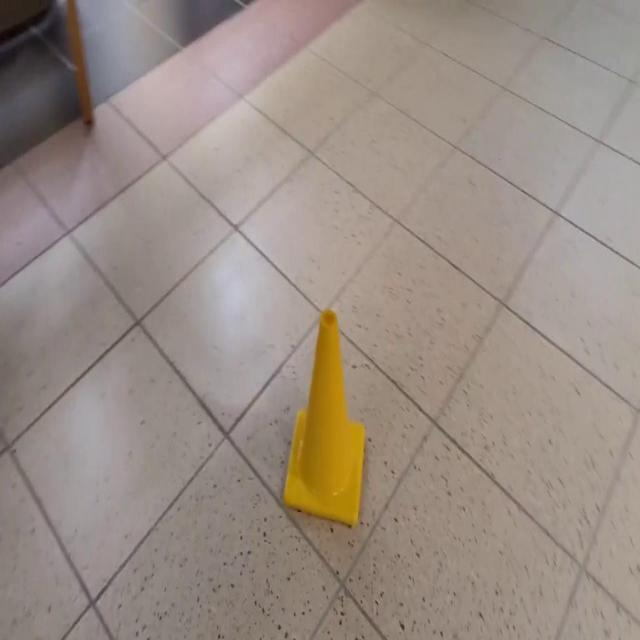frc_cone: (285, 308, 365, 522)
